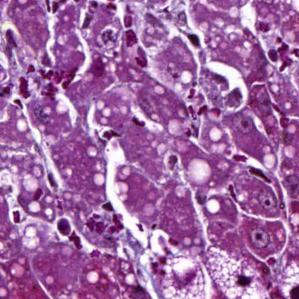ballooning: (153, 243, 273, 296)
